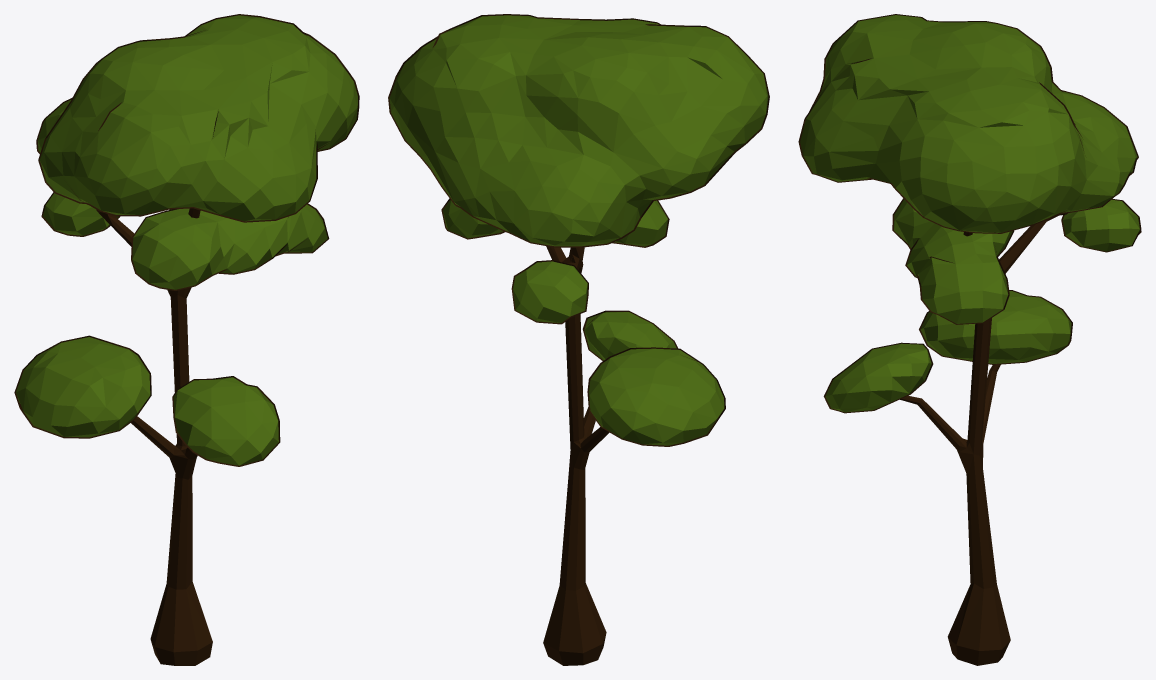
Rendered from Tree_Varient_1_(Outlined)v004.fbx.
3 renders of one model, left to right at view 1: azimuth 30°, elevation 25°; view 2: azimuth 150°, elevation 25°; view 3: azimuth 270°, elevation 25°, orthographic.
Parts seen in each view (by area): view 1: Tree; view 2: Tree; view 3: Tree.
Boxes of the visible parts, <box> form: Tree: <box>14,14,359,665</box>; Tree: <box>388,14,769,665</box>; Tree: <box>798,14,1141,665</box>.
Size of the model in its own units: 349 by 652 by 330.
